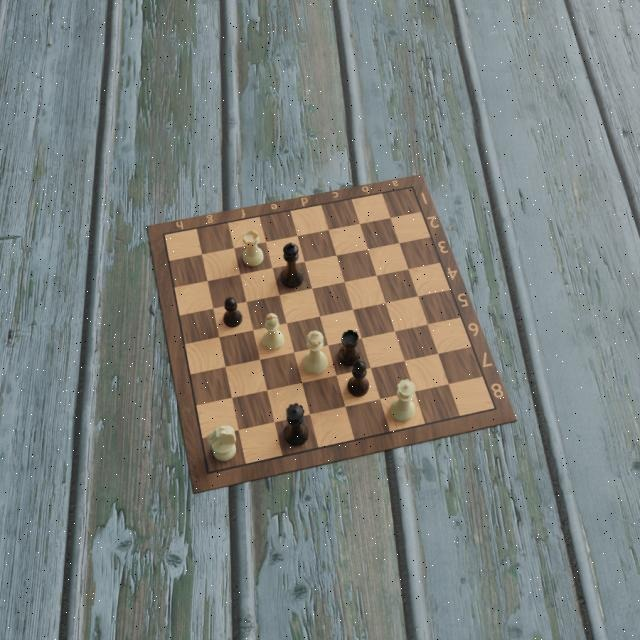black-bishop: (346, 359, 372, 399)
black-king: (280, 241, 304, 288)
black-pawn: (224, 295, 244, 328)
black-queen: (283, 401, 309, 448)
black-rook: (336, 327, 361, 367)
white-bishop: (261, 311, 283, 353)
white-king: (302, 327, 327, 377)
white-knight: (205, 424, 240, 464)
white-queen: (391, 376, 416, 424)
white-rook: (240, 228, 264, 268)
